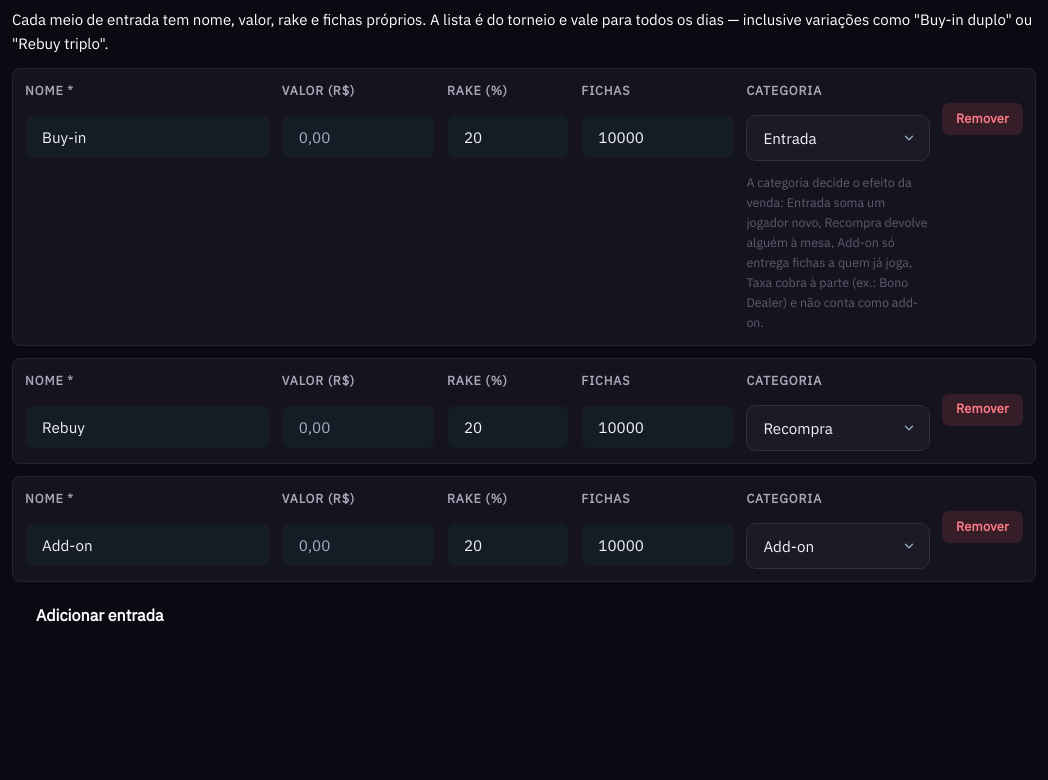
remover › a recusa some assim que o operador mexe em alguma coisa
Step 1. Click the 1st button "Remover" → coordinates (982, 119), box [942,103,1023,135]
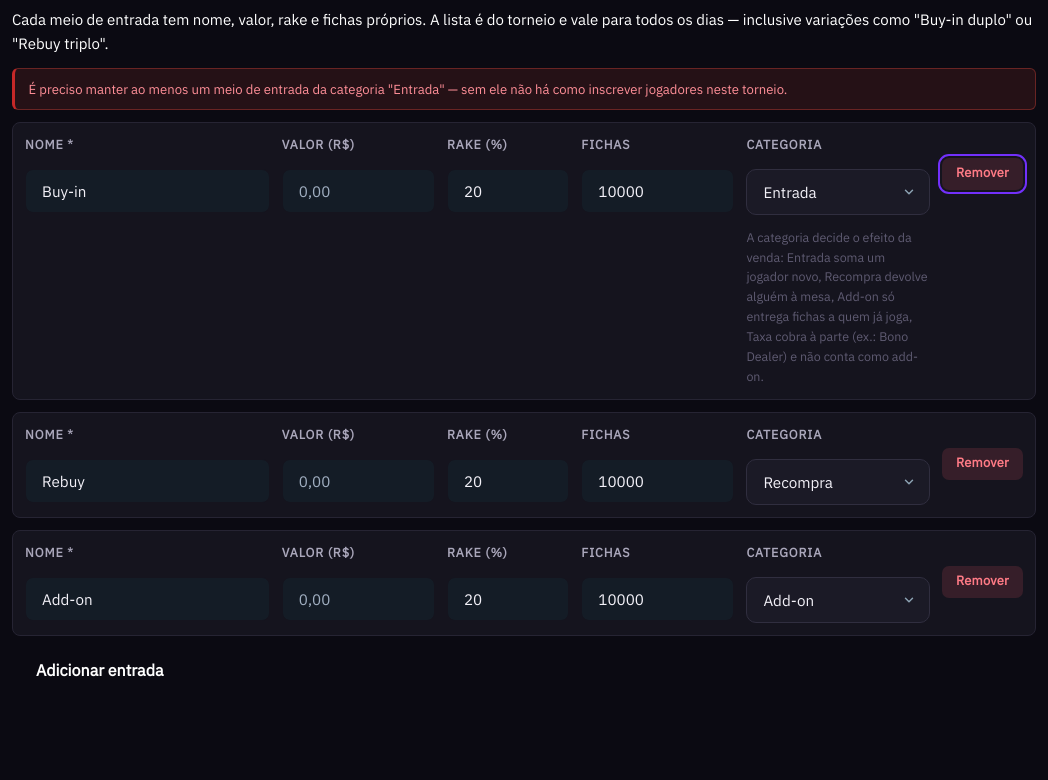
Check: the message is shown, box [12,68,1036,110]
Step 2. Type "x" into the 1st field labelled "Nome *" → coordinates (147, 191), box [25,169,270,213]
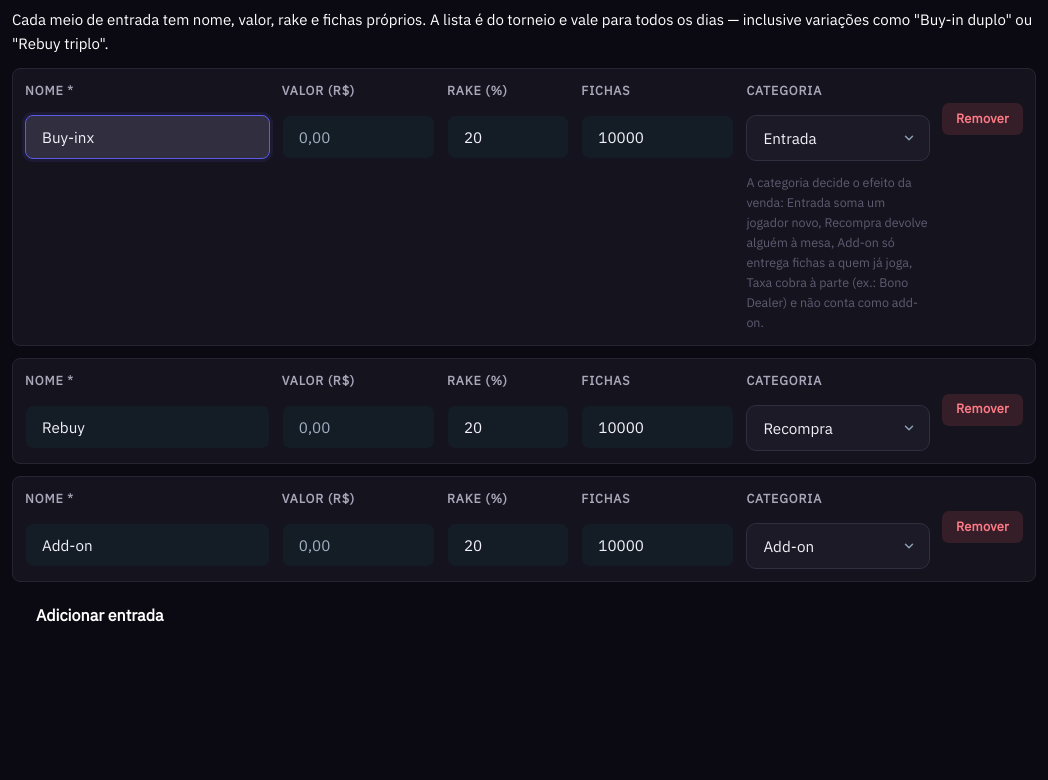
Check: the message is gone
